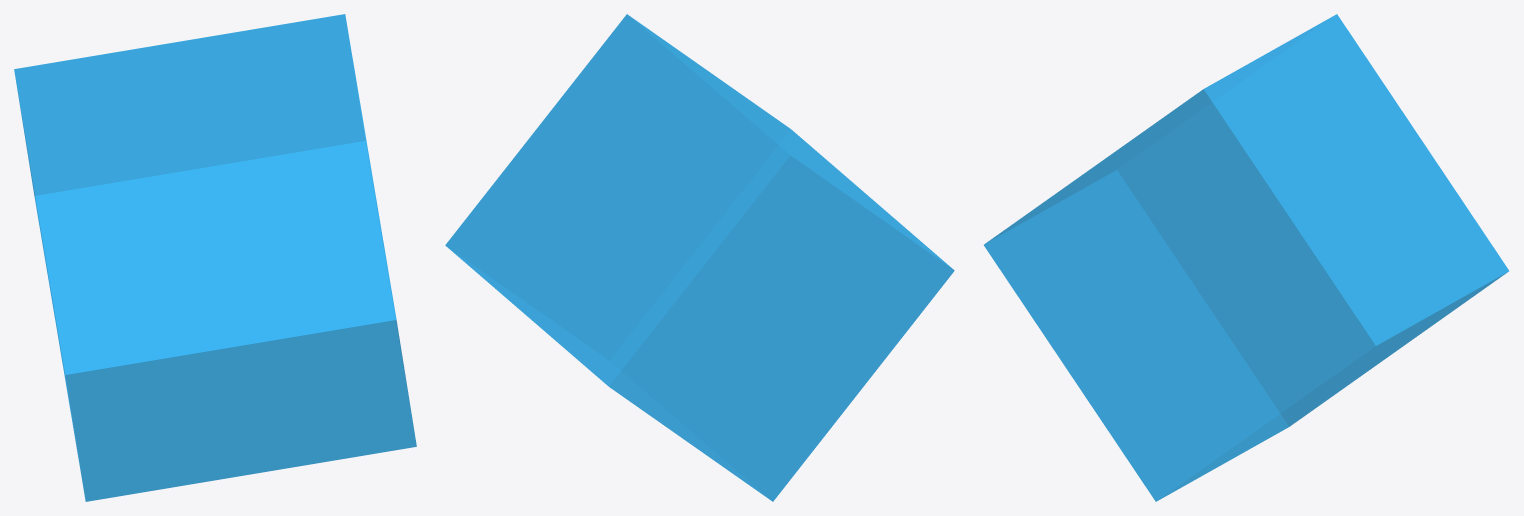
Rendered from cuboazul.fbx.
3 renders of one model, left to right at view 1: azimuth 30°, elevation 25°; view 2: azimuth 150°, elevation 25°; view 3: azimuth 270°, elevation 25°, orthographic. The views are drawn at different scales.
Parts seen in each view (by area): view 1: Cube; view 2: Cube; view 3: Cube.
Boxes of the visible parts, x1,y1,x2,y2 form: Cube: [14, 14, 416, 501]; Cube: [445, 14, 954, 501]; Cube: [984, 14, 1508, 501].
Bounding box in the file's own units: 3.03 × 3.09 × 3.4.
